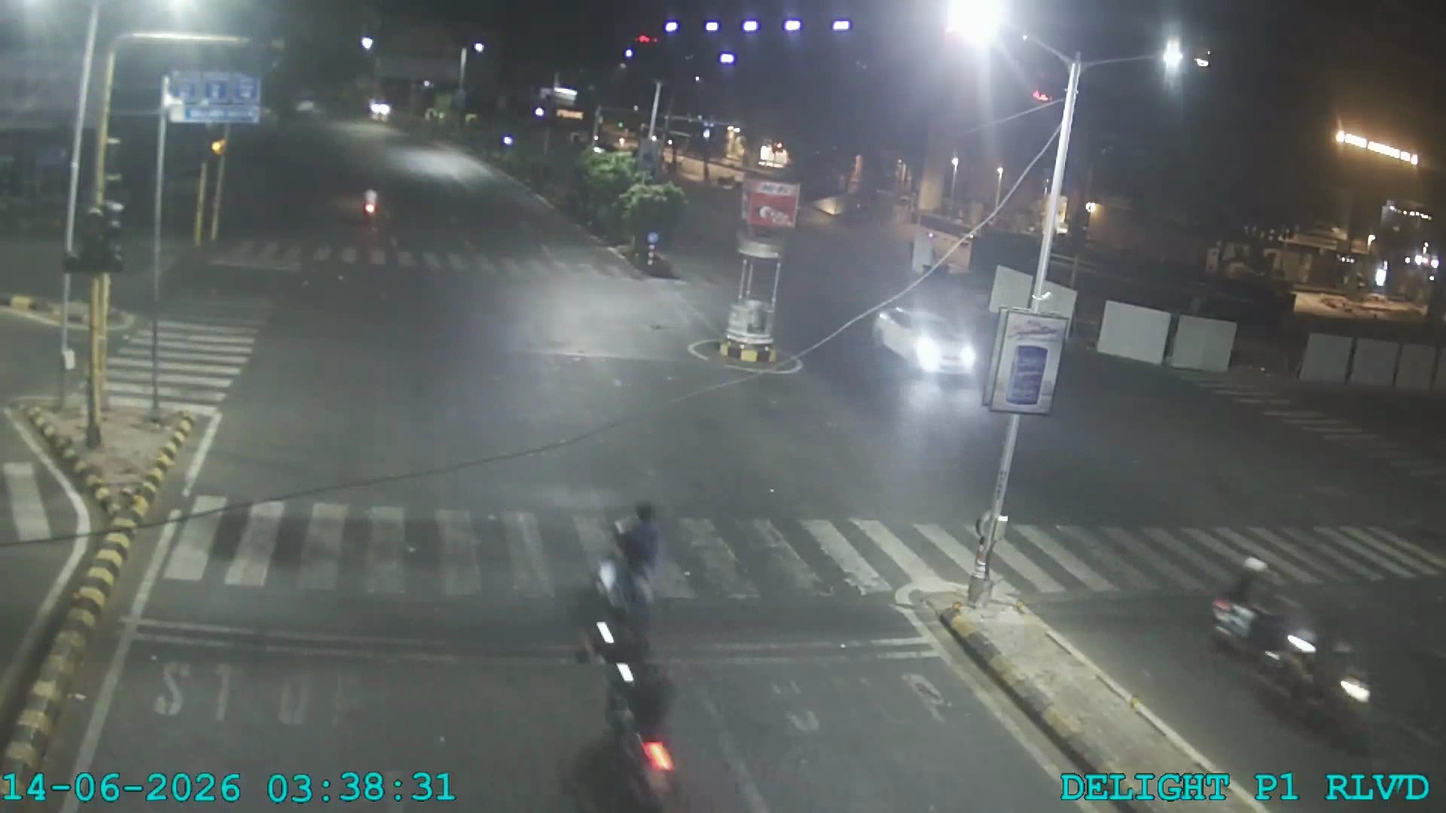car: (866, 299, 981, 382)
two_wheeler: (1197, 551, 1357, 713), (1197, 547, 1330, 679), (581, 494, 678, 670), (576, 661, 682, 807), (353, 177, 389, 228)
